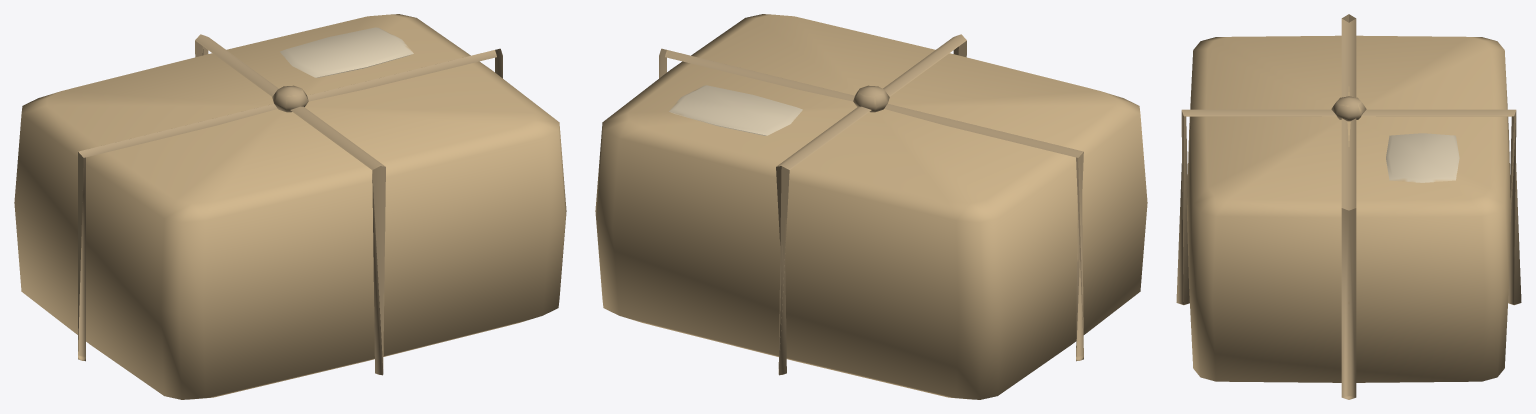
Rendered from courrier.glb.
3 views of the same model, side by side, from view 1: azimuth 30°, elevation 25°; view 2: azimuth 150°, elevation 25°; view 3: azimuth 270°, elevation 25° (orthographic). The views are drawn at different scales.
Visible parts, largest first — view 1: colis; view 2: colis; view 3: colis.
Part boxes in pixels (bbox=[...]): colis: bbox=[14, 14, 566, 399]; colis: bbox=[595, 14, 1147, 399]; colis: bbox=[1176, 14, 1521, 399].
Size of the model in its own units: 0.3 by 0.1498 by 0.2265.
1 material, 1 textured.
